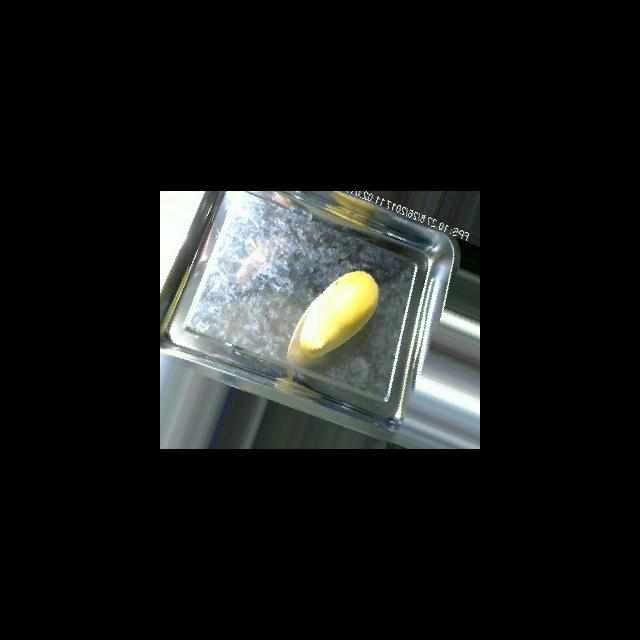Mango: (286, 269, 379, 367)
